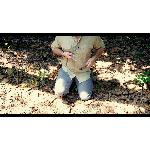Pisau: (63, 51, 79, 65)
